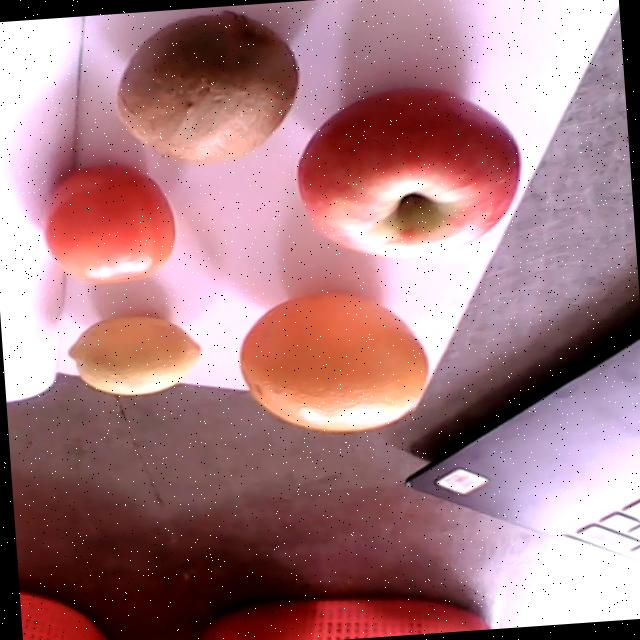apple: (298, 87, 518, 260)
kiwi: (116, 11, 294, 162)
lemon: (68, 315, 198, 394)
orange: (239, 290, 425, 432)
tomato: (46, 163, 172, 284)
